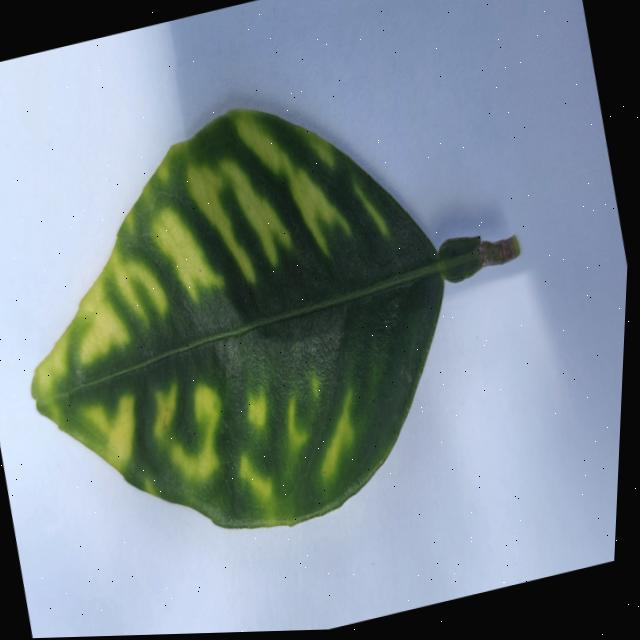greening: (31, 108, 519, 526)
